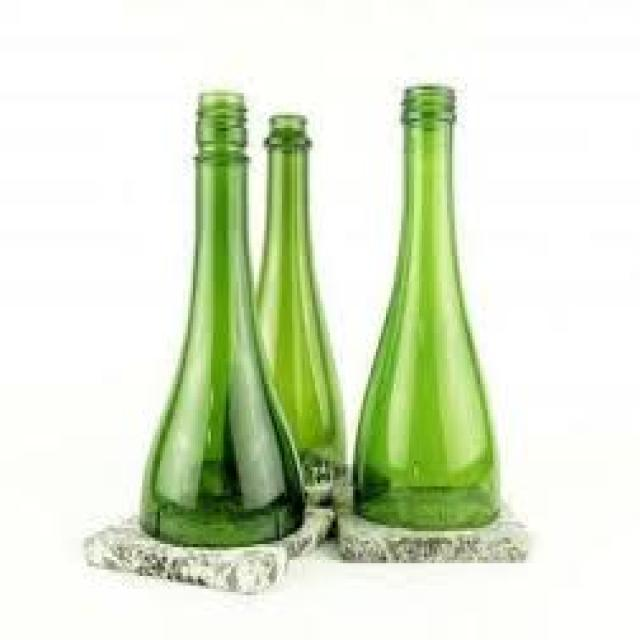glass: (140, 90, 302, 544), (351, 80, 496, 528), (247, 112, 341, 486)
